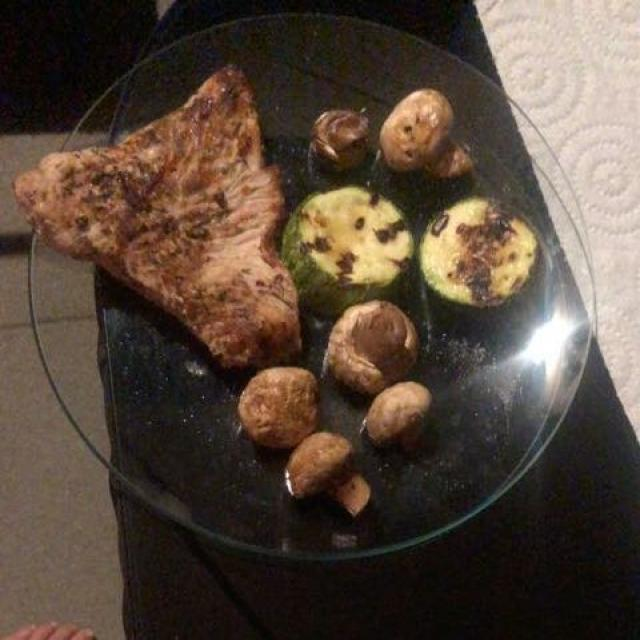mushrooms: (241, 94, 474, 524)
zucchini: (300, 187, 550, 331)
